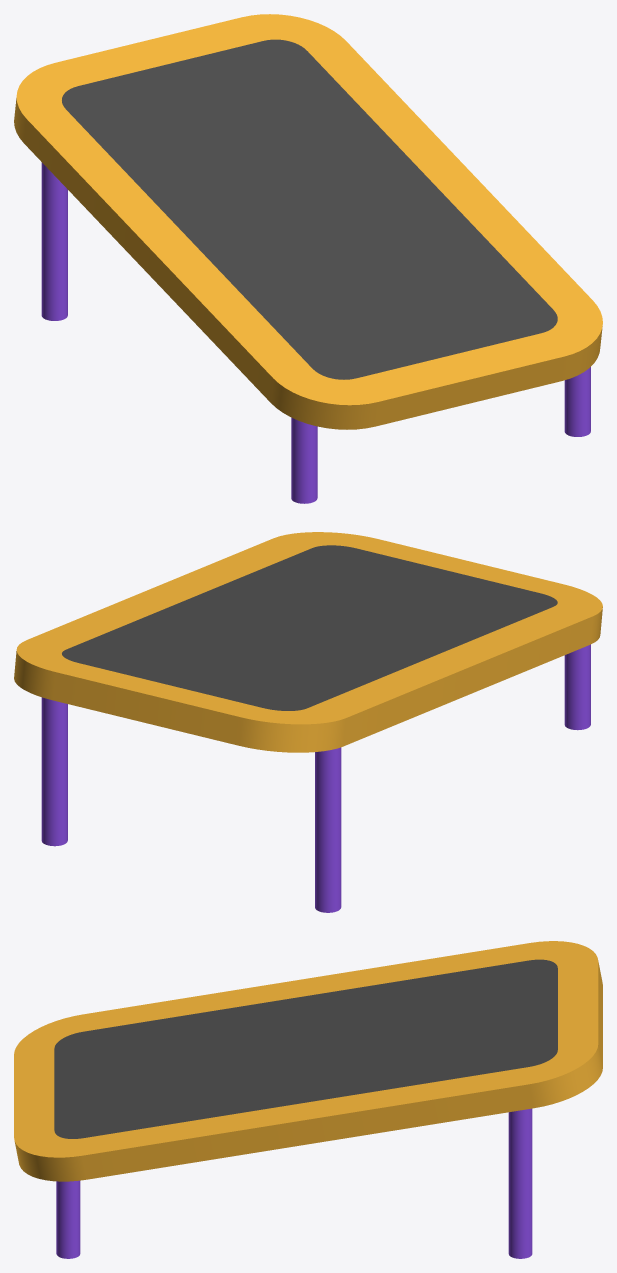
Rendered from Trampline Rectangle.fbx.
3 views of the same model, one above another, from view 1: azimuth 30°, elevation 25°; view 2: azimuth 150°, elevation 25°; view 3: azimuth 270°, elevation 25° (orthographic). The views are drawn at different scales.
Visible parts, largest first — view 1: Trampline Rectangle; view 2: Trampline Rectangle; view 3: Trampline Rectangle.
Part boxes in pixels (left/top/right/bottom): Trampline Rectangle: left=14, top=14, right=602, bottom=503; Trampline Rectangle: left=14, top=532, right=602, bottom=912; Trampline Rectangle: left=14, top=941, right=602, bottom=1258.
Size of the model in its own units: 94.77 by 59.71 by 167.
